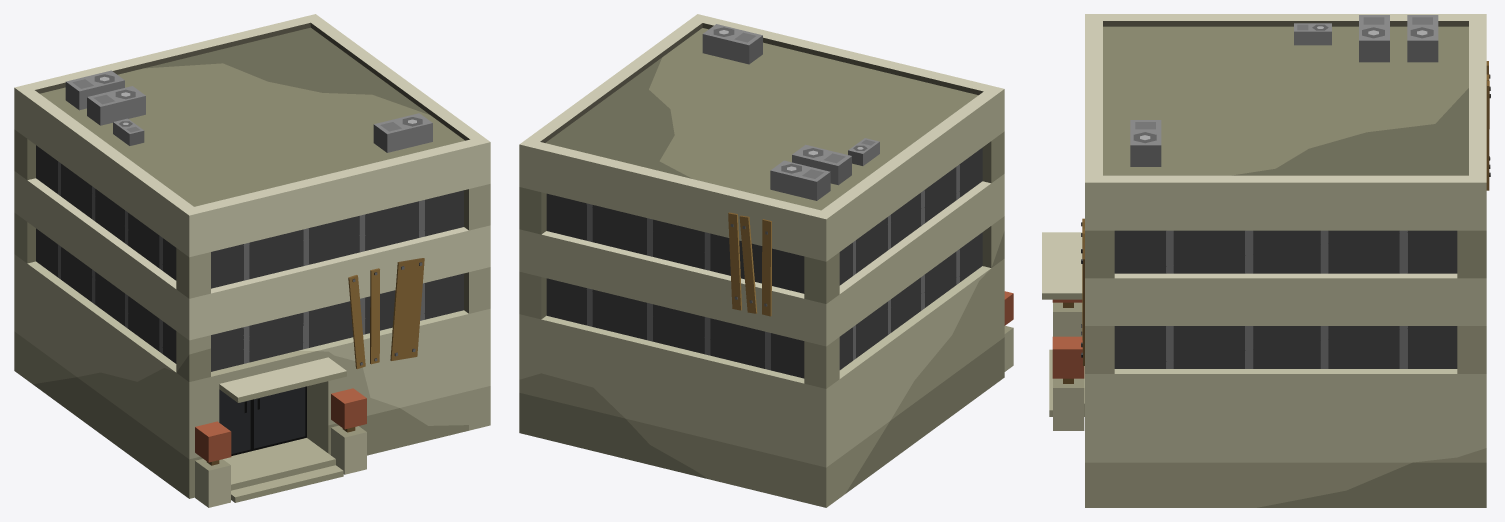
File: SA_Bld_OfficeWhite_01.glb
3 views of the same model, side by side, from view 1: azimuth 30°, elevation 25°; view 2: azimuth 150°, elevation 25°; view 3: azimuth 270°, elevation 25° (orthographic). The views are drawn at different scales.
Parts seen in each view (by area): view 1: SA_Bld_OfficeWhite_01; view 2: SA_Bld_OfficeWhite_01; view 3: SA_Bld_OfficeWhite_01.
Part boxes in pixels (x1,y1,x2,y2): SA_Bld_OfficeWhite_01: (14,14,490,507); SA_Bld_OfficeWhite_01: (519,14,1013,507); SA_Bld_OfficeWhite_01: (1042,14,1490,507).
Size of the model in its own units: 5.72 by 5.39 by 6.43.
1 material, 1 textured.
